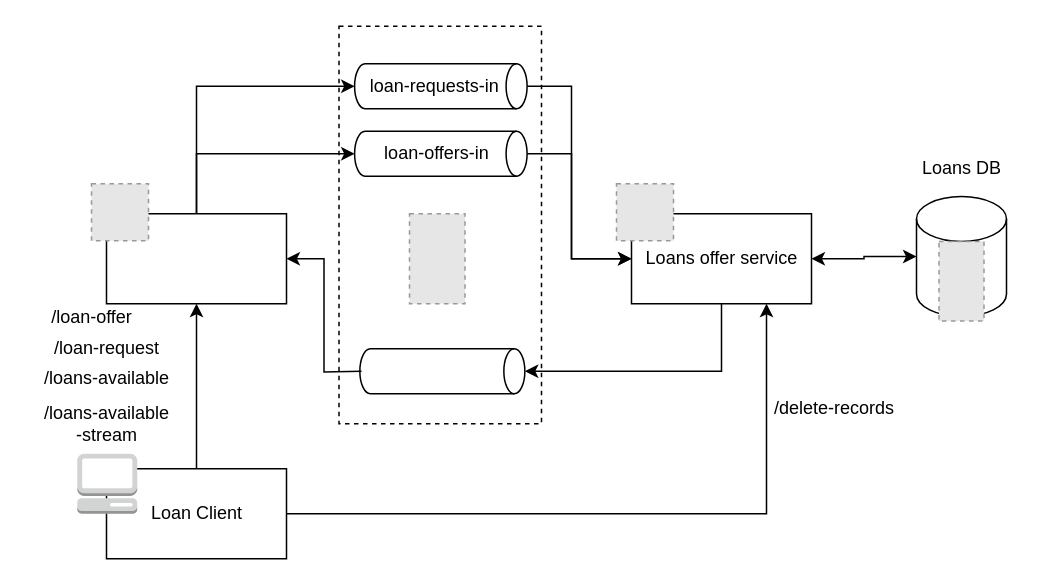
This 1056x585 diagram has some shape labels left out. Grey dashed boxes stand in for pictures. The shapes that lost their labels are listed below. From the top down, each one's centre as x and y in pixels, then its label:
point 195,258: Core service
point 441,370: loans-available
